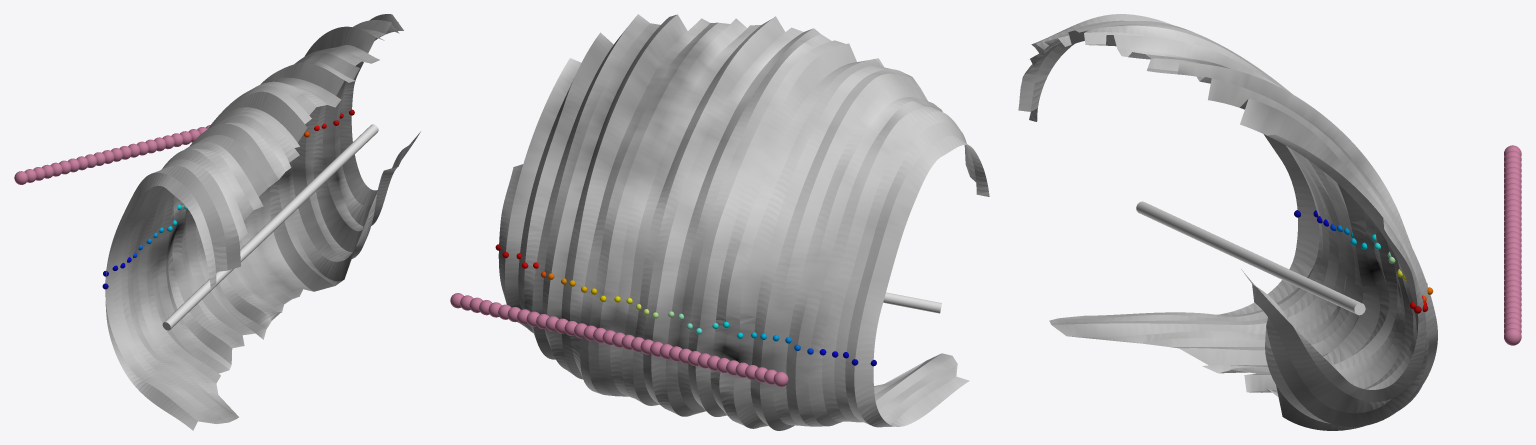
The model's file is GreyScale_data_vole_65_7E_id2_L23.gltf.
3 views of the same model, side by side, from view 1: azimuth 30°, elevation 25°; view 2: azimuth 150°, elevation 25°; view 3: azimuth 270°, elevation 25° (orthographic). The views are drawn at different scales.
Bounding box in the file's own units: 3.54 × 3.45 × 3.96.
